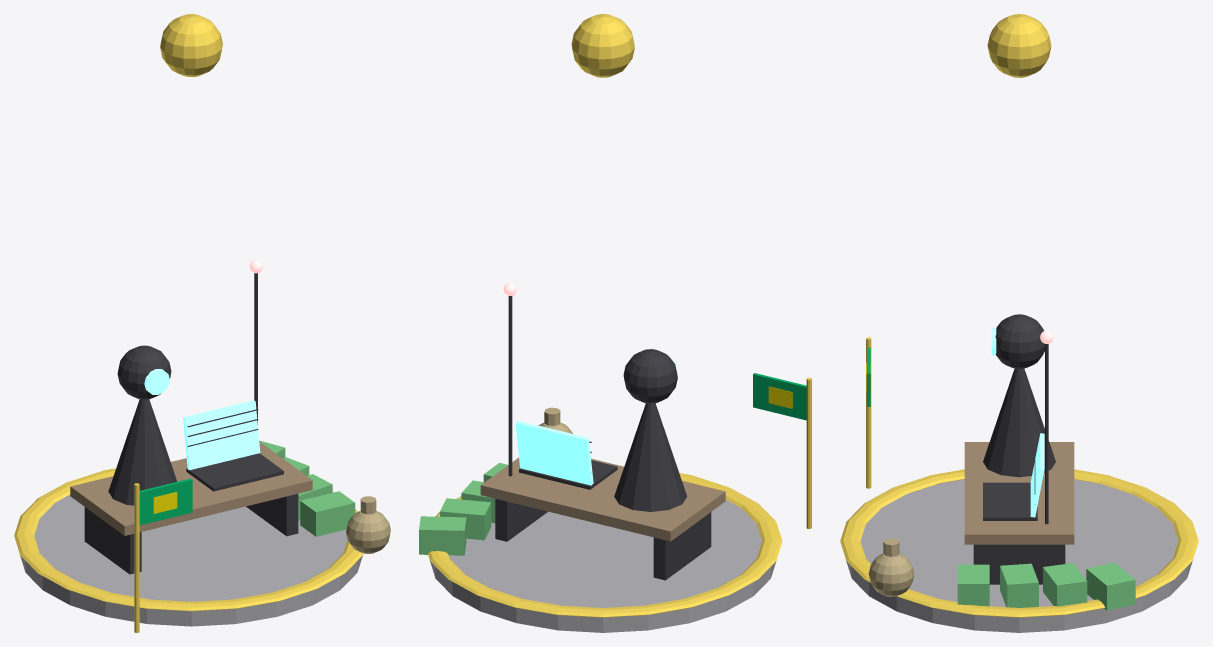
File: Hacker_L4.fbx
The picture shows the model from 3 angles, left to right: view 1: azimuth 30°, elevation 25°; view 2: azimuth 150°, elevation 25°; view 3: azimuth 270°, elevation 25°; orthographic projection.
Visible parts, largest first — view 1: Hacker_L4.001; view 2: Hacker_L4.001; view 3: Hacker_L4.001.
Boxes of the visible parts, x1=… form: Hacker_L4.001: x1=14, y1=14, x2=390, y2=632; Hacker_L4.001: x1=419, y1=14, x2=811, y2=632; Hacker_L4.001: x1=840, y1=14, x2=1198, y2=632.
Size of the model in its own units: 3.92 by 6.55 by 3.92.
